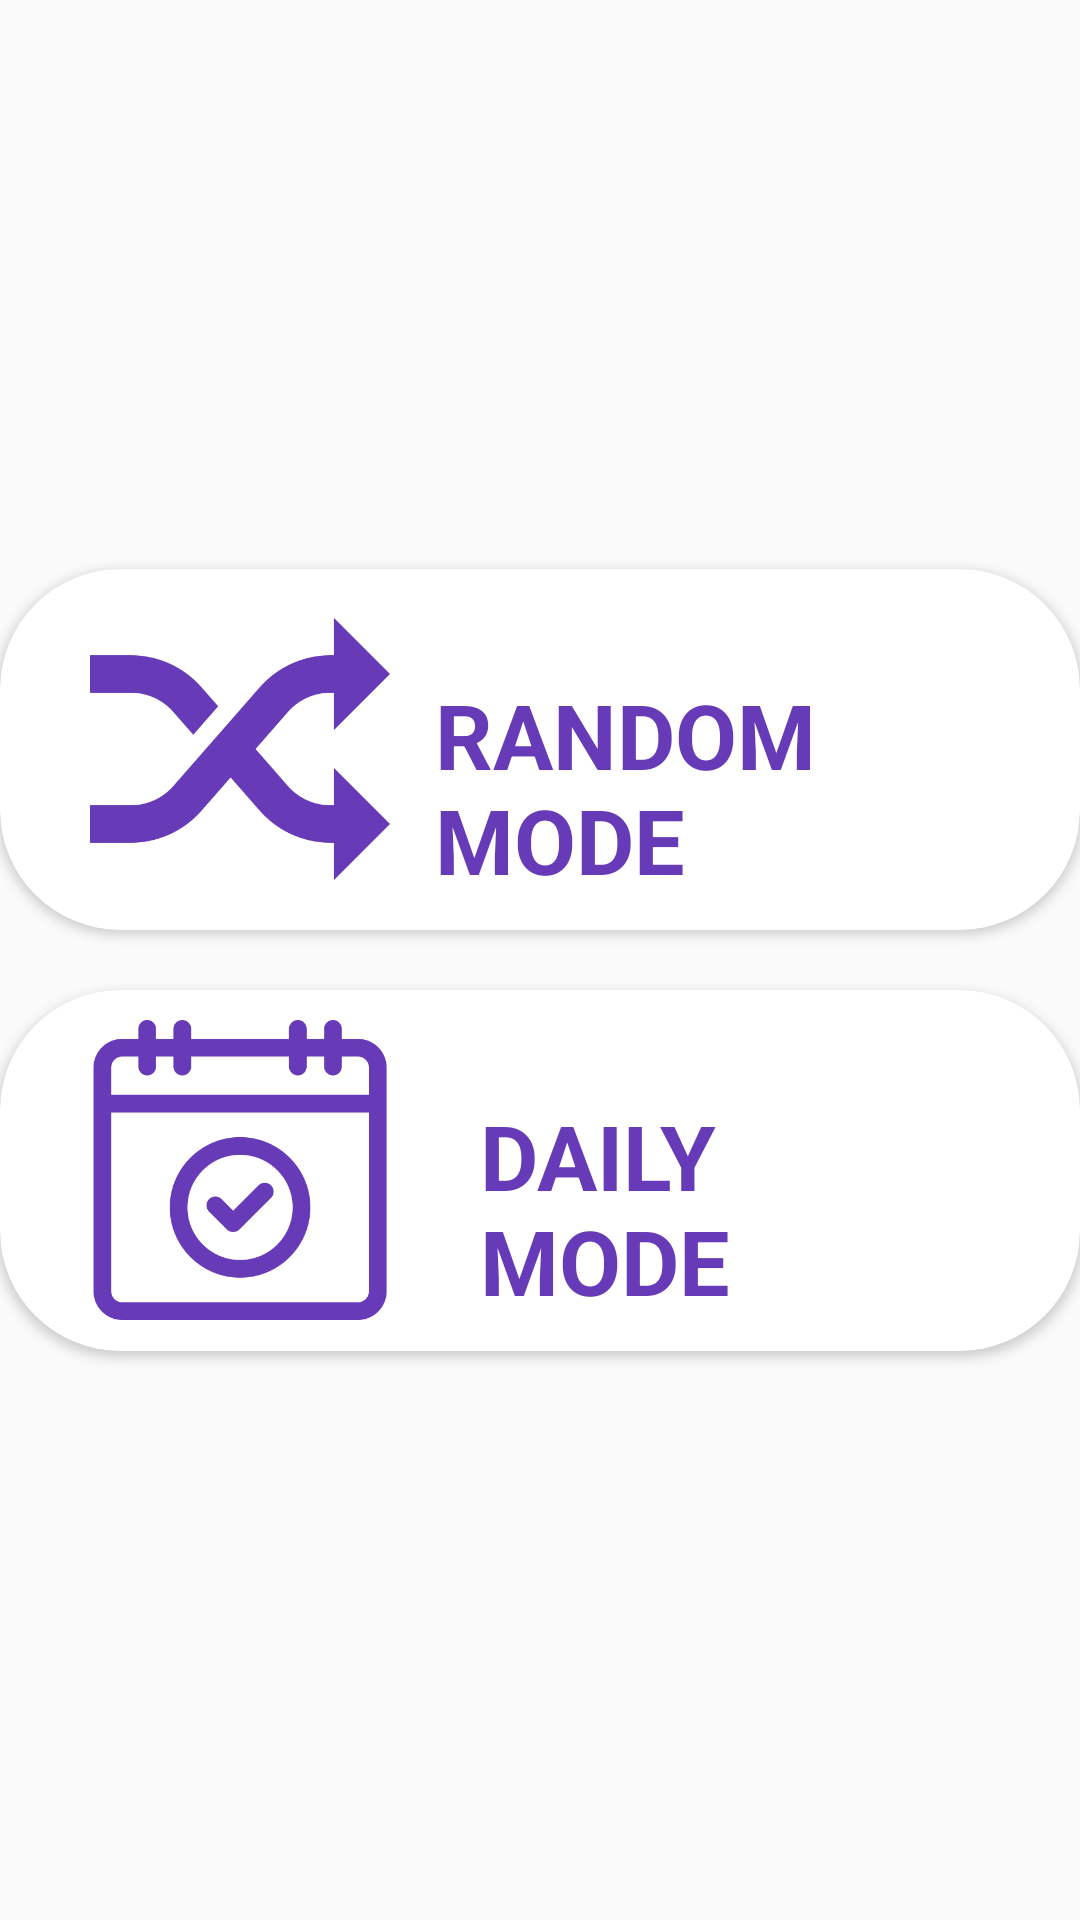

Named icons in this screenshot (1080*1920) and their bounding boxes, (x1, y1, x2, y2):
daily violet: (93, 1020, 387, 1320)
random violet: (90, 618, 390, 880)
